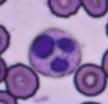N: (29, 28, 81, 77)
